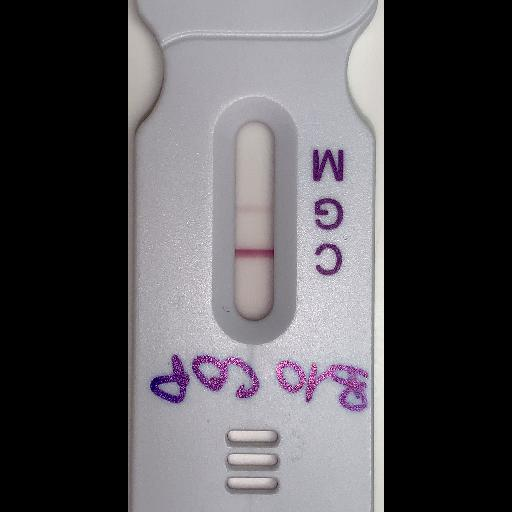Pos: (137, 1, 373, 511)
